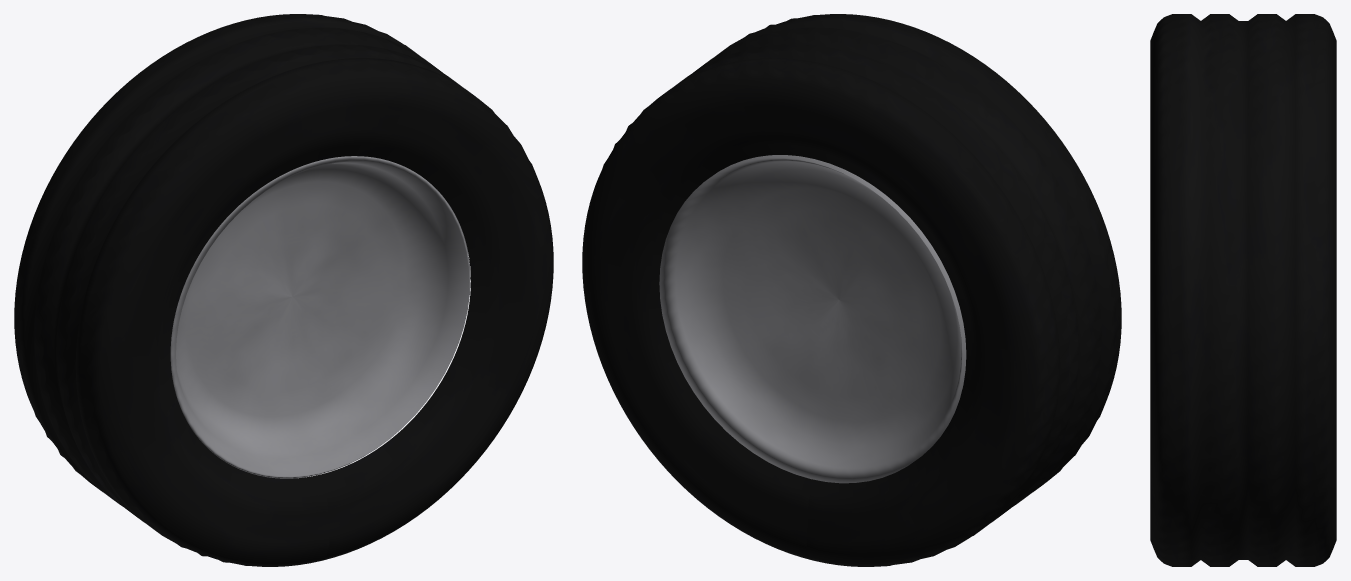
File: tire_L2.glb
The picture shows the model from 3 angles, left to right: view 1: azimuth 30°, elevation 25°; view 2: azimuth 150°, elevation 25°; view 3: azimuth 270°, elevation 25°; orthographic projection. The views are drawn at different scales.
Parts seen in each view (by area): view 1: tire, rim; view 2: tire, rim; view 3: tire.
Boxes of the visible parts, x1,y1,x2,y2 form: tire: (14, 14, 553, 566); rim: (170, 156, 470, 478); tire: (582, 14, 1121, 566); rim: (659, 155, 966, 483); tire: (1150, 14, 1336, 566).
Bounding box in the file's own units: 0.632 × 0.632 × 0.2131.
Materials: 2 (2 with a texture image).
